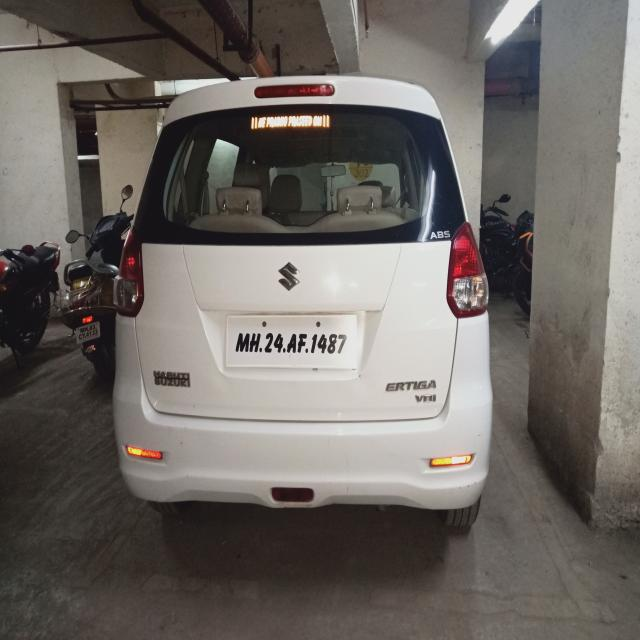Number-Plate: (226, 315, 354, 367)
